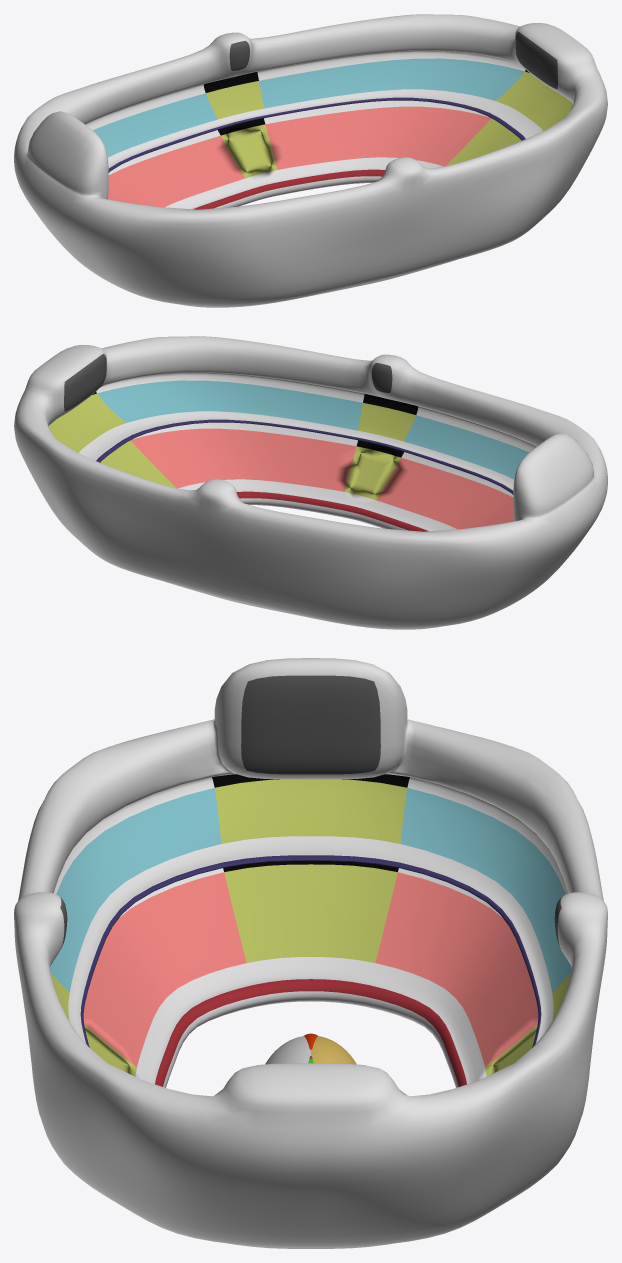
The model's file is stadium_tribunes.fbx.
3 renders of one model, top to bottom at view 1: azimuth 30°, elevation 25°; view 2: azimuth 150°, elevation 25°; view 3: azimuth 270°, elevation 25°, orthographic. The views are drawn at different scales.
Visible parts, largest first — view 1: Cube; view 2: Cube; view 3: Cube, dome.
Part boxes in pixels (x1,y1,x2,y2): Cube: [14, 14, 607, 307]; Cube: [14, 336, 607, 629]; Cube: [14, 658, 607, 1248]; dome: [265, 1036, 356, 1064].
Size of the model in its own units: 90.92 by 27.53 by 55.11.
